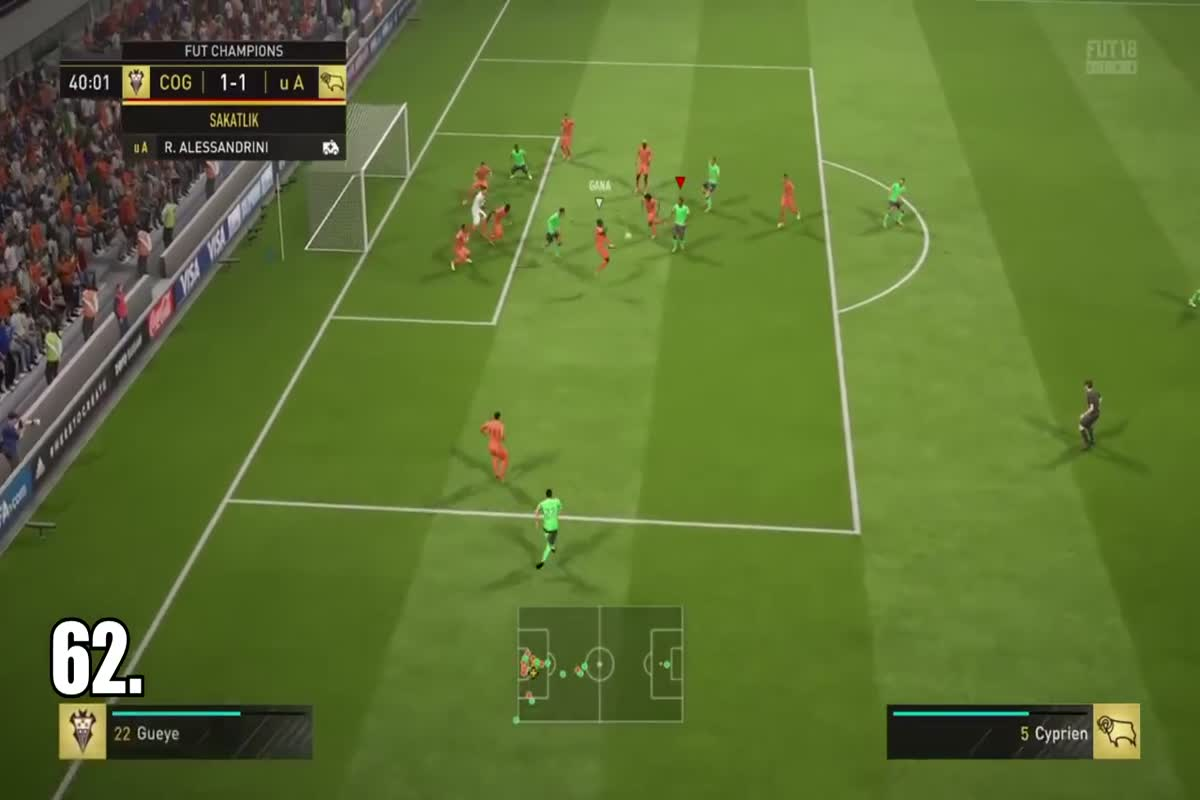ball: (616, 229, 642, 246)
